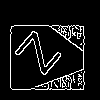Z: (13, 29, 72, 83)
